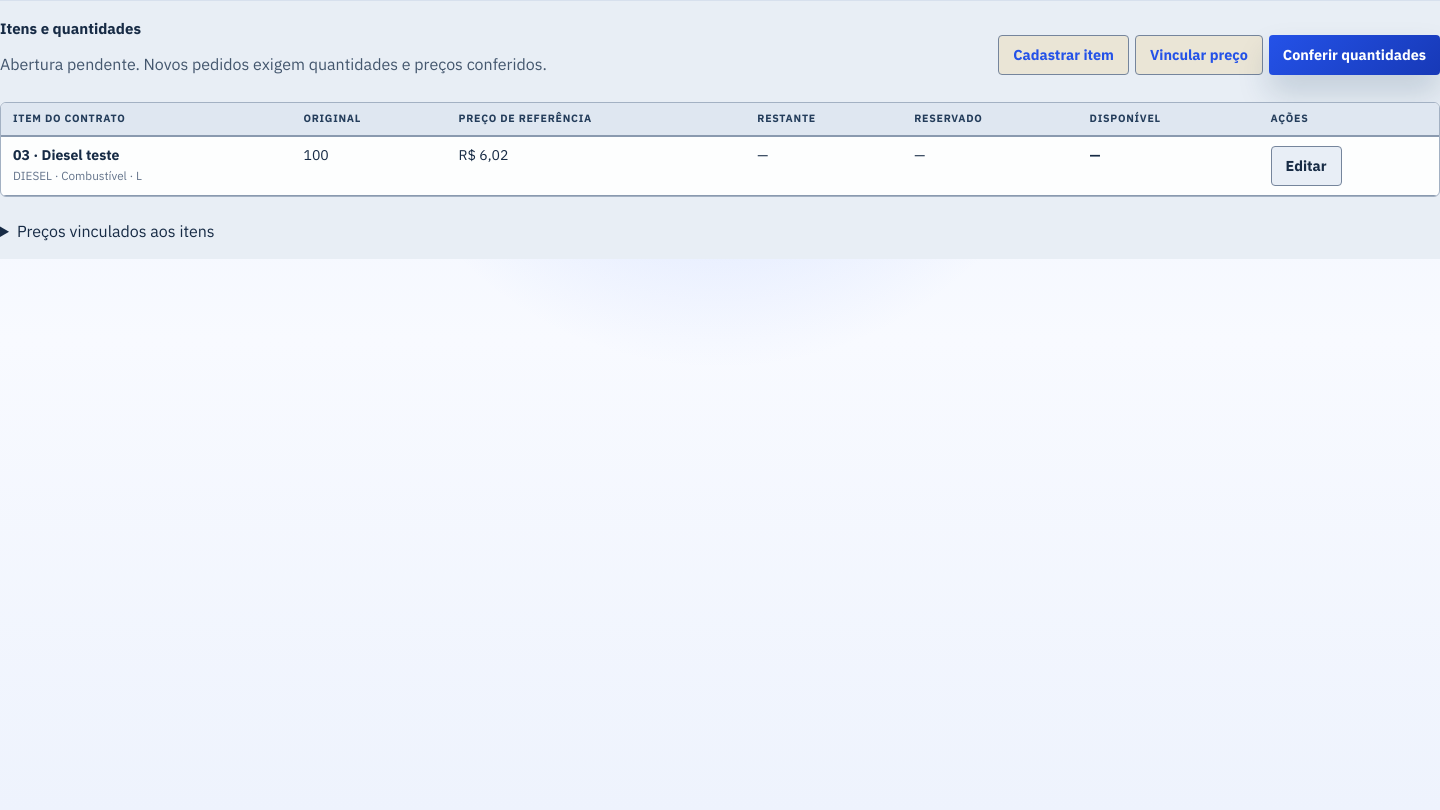
it: exige conferência explícita sem presumir quantidades e histórico como zero
This screenshot has width=1440, height=810.
Click the button "Conferir quantidades".
click(1354, 54)  # box [1269,34,1439,74]
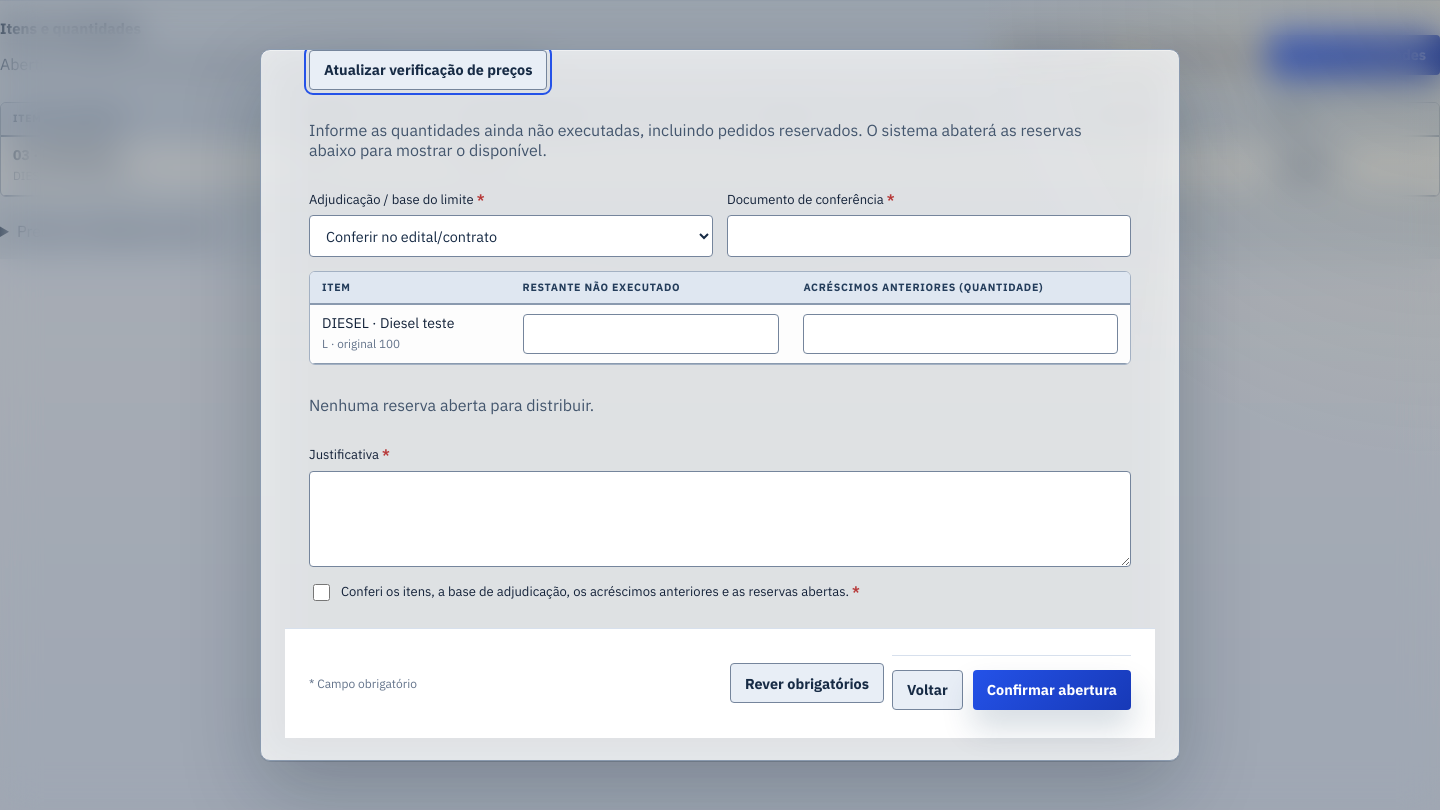
Check: the number field named "Restante DIESEL" is not empty, box [522,314,779,354]
Check: the number field named "Acréscimos anteriores DIESEL" is not empty, box [803,314,1118,354]
Check: the dropdown labelled "Adjudicação / base do limite" shows "Conferir no edital/contrato", box [309,215,713,257]
